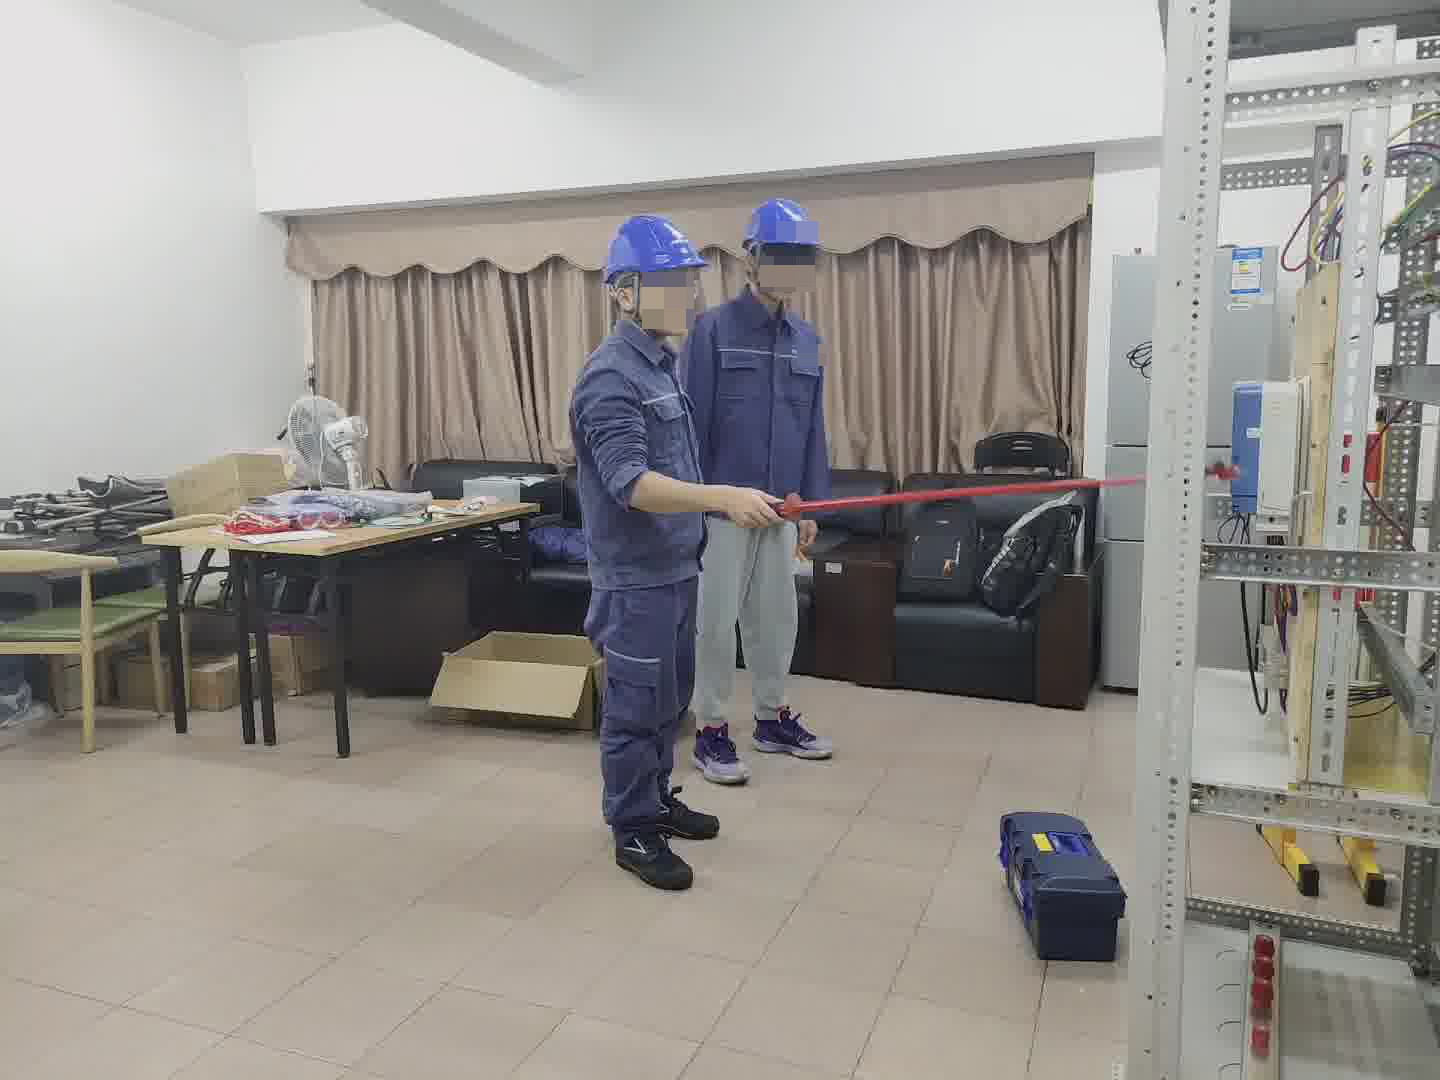downcloth: (699, 505, 808, 730)
downsuit: (587, 595, 705, 833)
goggles: (641, 270, 701, 332)
halt: (599, 214, 708, 331), (744, 197, 827, 295)
hand: (731, 473, 789, 532), (792, 514, 820, 556)
inear: (608, 276, 653, 322)
person: (559, 210, 717, 882), (679, 197, 845, 775)
testrod: (742, 463, 1156, 525)
upsuit: (563, 316, 716, 587), (679, 293, 827, 493)
wrongtop: (597, 425, 744, 540)
